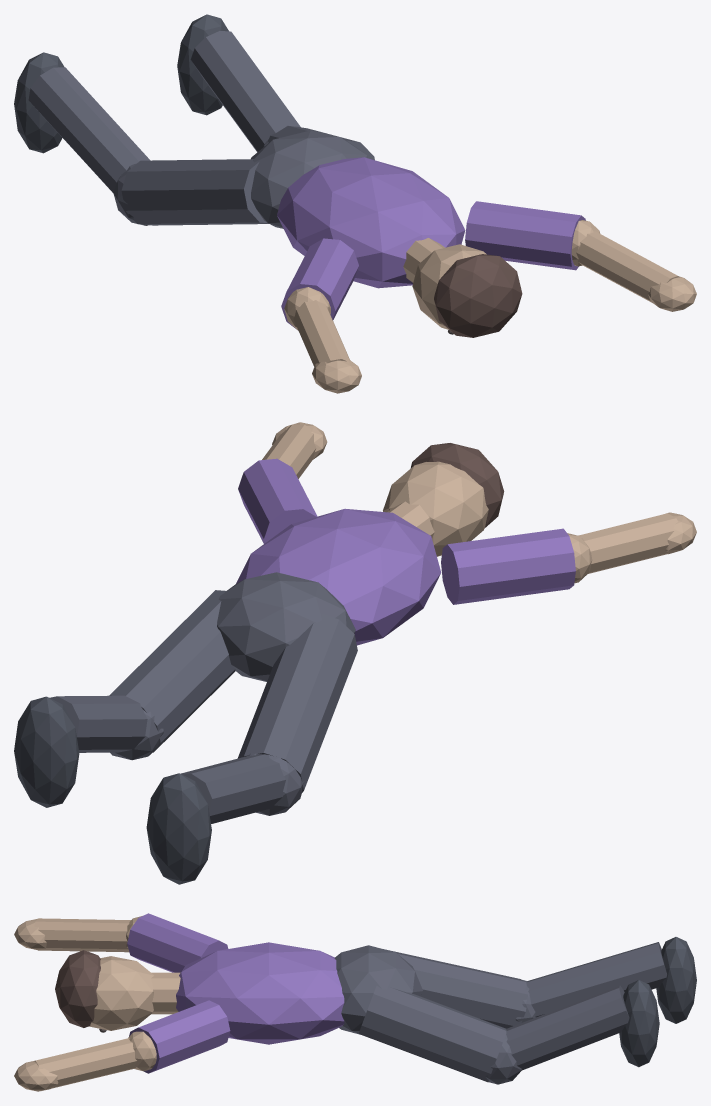
3 views of the same model, one above another, from view 1: azimuth 30°, elevation 25°; view 2: azimuth 150°, elevation 25°; view 3: azimuth 270°, elevation 25° (orthographic). The views are drawn at different scales.
Parts seen in each view (by area): view 1: world; view 2: world; view 3: world.
Boxes of the visible parts, <box> form: world: <box>14,14,696,393</box>; world: <box>14,422,696,884</box>; world: <box>14,913,696,1091</box>.
Size of the model in its own units: 1.17 by 0.3942 by 2.12.
